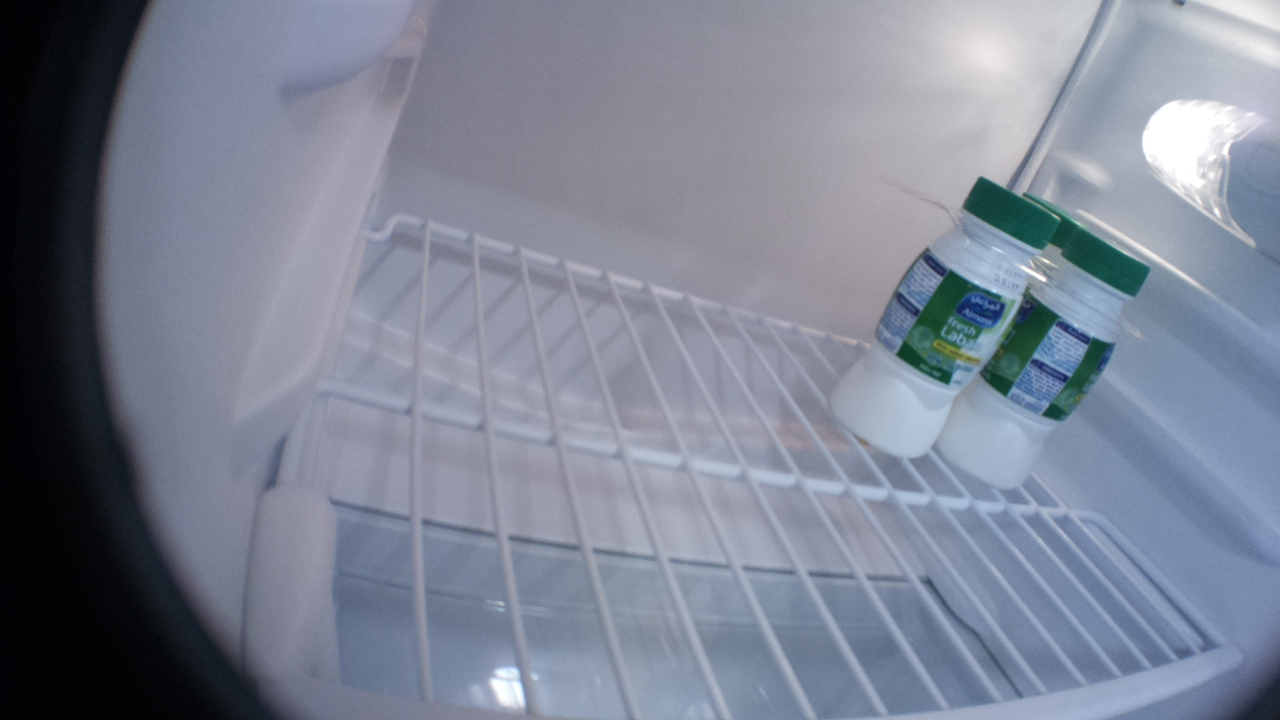laban: (830, 175, 1059, 461), (935, 222, 1149, 487), (1022, 185, 1094, 245)
